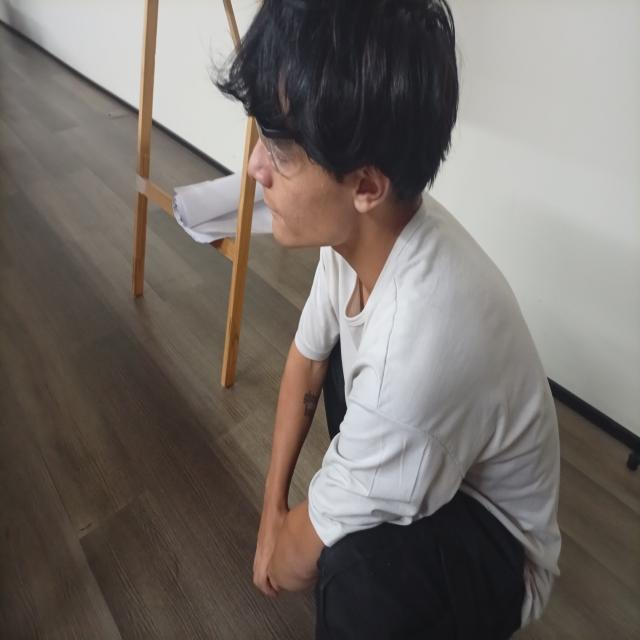oculos-epi: (254, 116, 307, 177)
